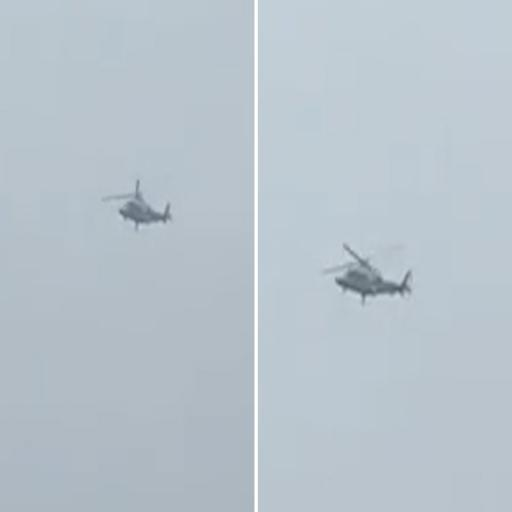helicopter: (327, 243, 415, 304), (101, 177, 176, 234)
